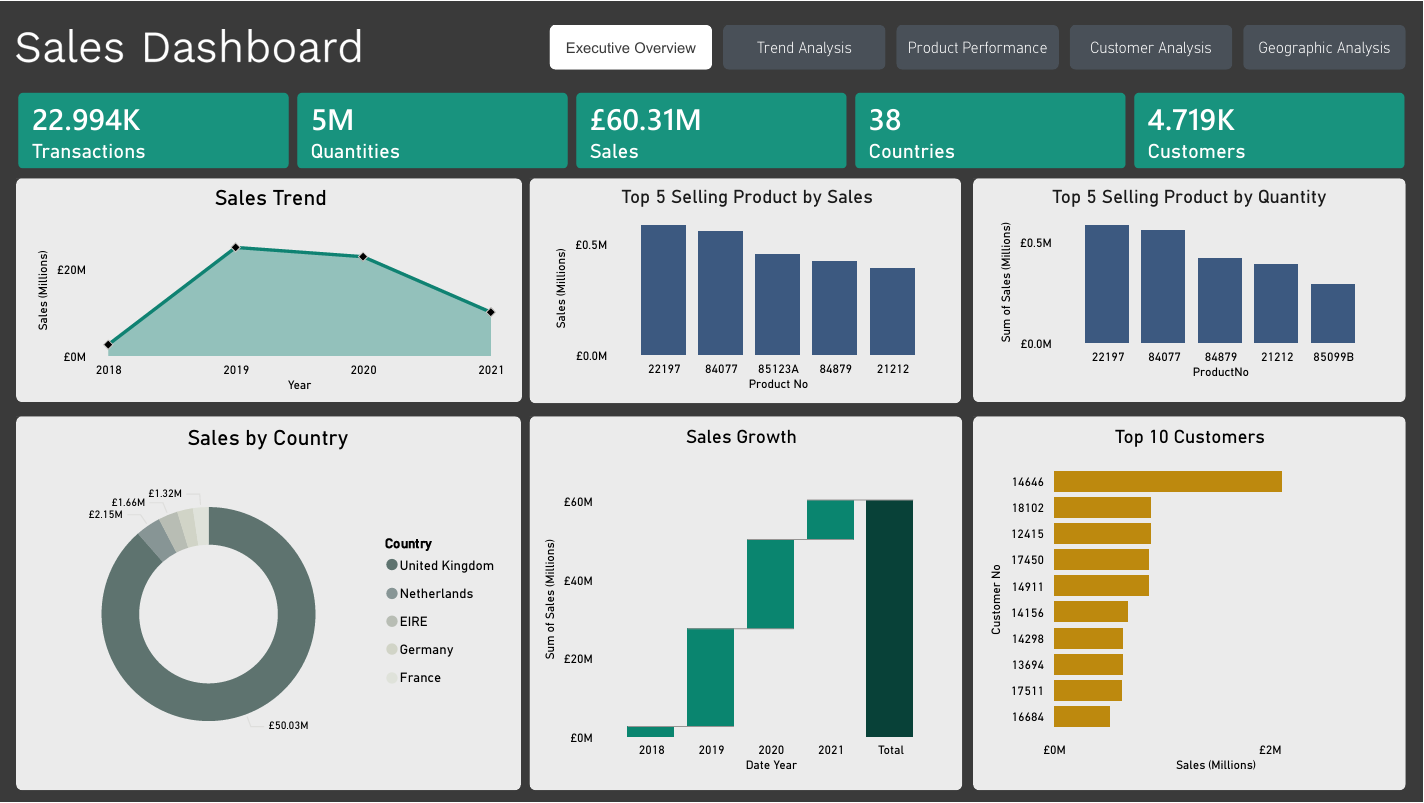

This screenshot's page, from the dashboard's own definition file:
{"tool":"powerbi","page":{"name":"Executive Overview","canvas":[1280,720],"ordinal":0},"visuals":[{"type":"shape","box":[476.2,372.5,388.8,336.2],"z":0},{"type":"shape","box":[875,372.5,388.8,336.2],"z":1000},{"type":"shape","box":[13.8,372.5,453.8,336.2],"z":2000},{"type":"shape","box":[875,158.8,388.8,201.2],"z":3000},{"type":"shape","box":[475.7,158.6,388.6,202.9],"z":4000},{"type":"shape","box":[14.3,158.6,454.3,201.4],"z":5000},{"type":"cardVisual","fields":{"Data":["Count(Sales.TransactionNo)","Sum(Sales.Quantity)","Sum(Sales.Sales)","Count(Sales.Country)","Count(Sales.CustomerNo)"]},"box":[10.7,77.1,1258.6,78.6],"z":6000},{"type":"donutChart","title":"Sales by Country","fields":{"Category":["Sales.Country"],"Y":["Sum(Sales.Sales)"]},"box":[22.5,381.2,435,316.2],"z":7000},{"type":"clusteredColumnChart","title":"Top 5 Selling Product by Sales","fields":{"Category":["Products.ProductNo"],"Y":["Sum(Sales.Sales)"]},"box":[493.8,165,355,190],"z":8000},{"type":"clusteredColumnChart","title":"Top 5 Selling Product by Quantity","fields":{"Category":["Products.ProductNo"],"Y":["Sum(Sales.Sales)"]},"box":[893.8,165,351.2,178.8],"z":9000},{"type":"lineChart","title":"Sales Trend","fields":{"Category":["Date.Date.Variation.Date Hierarchy.Year","Date.Date.Variation.Date Hierarchy.Quarter","Date.Date.Variation.Date Hierarchy.Month","Date.Date.Variation.Date Hierarchy.Day"],"Y":["Sum(Sales.Sales)"]},"box":[27.5,165,430,190],"z":10000},{"type":"clusteredBarChart","title":"Top 10 Customers","fields":{"Category":["Sales.CustomerNo"],"Y":["Sum(Sales.Sales)"]},"box":[885,381.2,370,316.2],"z":11000},{"type":"pageNavigator","box":[493.8,21.2,770,40],"z":12000},{"type":"waterfallChart","title":"Sales Growth","fields":{"Category":["Date.Date.Variation.Date Hierarchy.Year"],"Y":["Sum(Sales.Sales)"]},"box":[483.8,381.2,365,316.2],"z":14000},{"type":"image","box":[14.3,0,310,80],"z":15000}]}

Visuals, with their boxes in screenshot pixels (x1, y1, x2, y2), scaled from the page's 1280x720 canvas onto the 1424x803 screenshot:
shape: 530,415,962,790
shape: 973,415,1406,790
shape: 15,415,520,790
shape: 973,177,1406,402
shape: 529,177,962,403
shape: 16,177,521,402
cardVisual - Count(Sales.TransactionNo) x Sum(Sales.Quantity): 12,86,1412,174
"Sales by Country" donutChart: 25,425,509,778
"Top 5 Selling Product by Sales" clusteredColumnChart: 549,184,944,396
"Top 5 Selling Product by Quantity" clusteredColumnChart: 994,184,1385,383
"Sales Trend" lineChart: 31,184,509,396
"Top 10 Customers" clusteredBarChart: 985,425,1396,778
pageNavigator: 549,24,1406,68
"Sales Growth" waterfallChart: 538,425,944,778
image: 16,0,361,89
